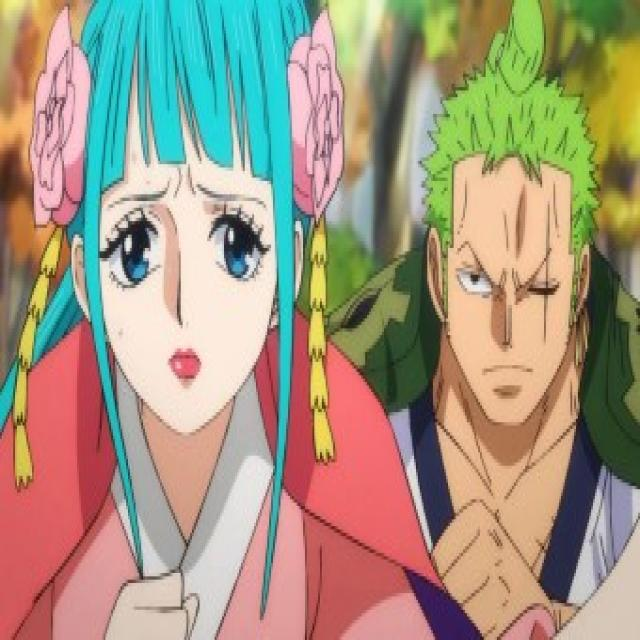Zoro: (417, 51, 600, 408)
